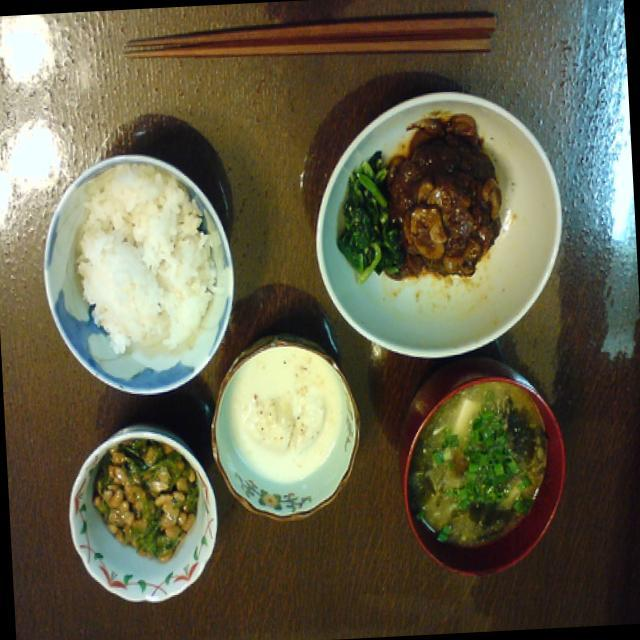Rice: (56, 173, 232, 380)
